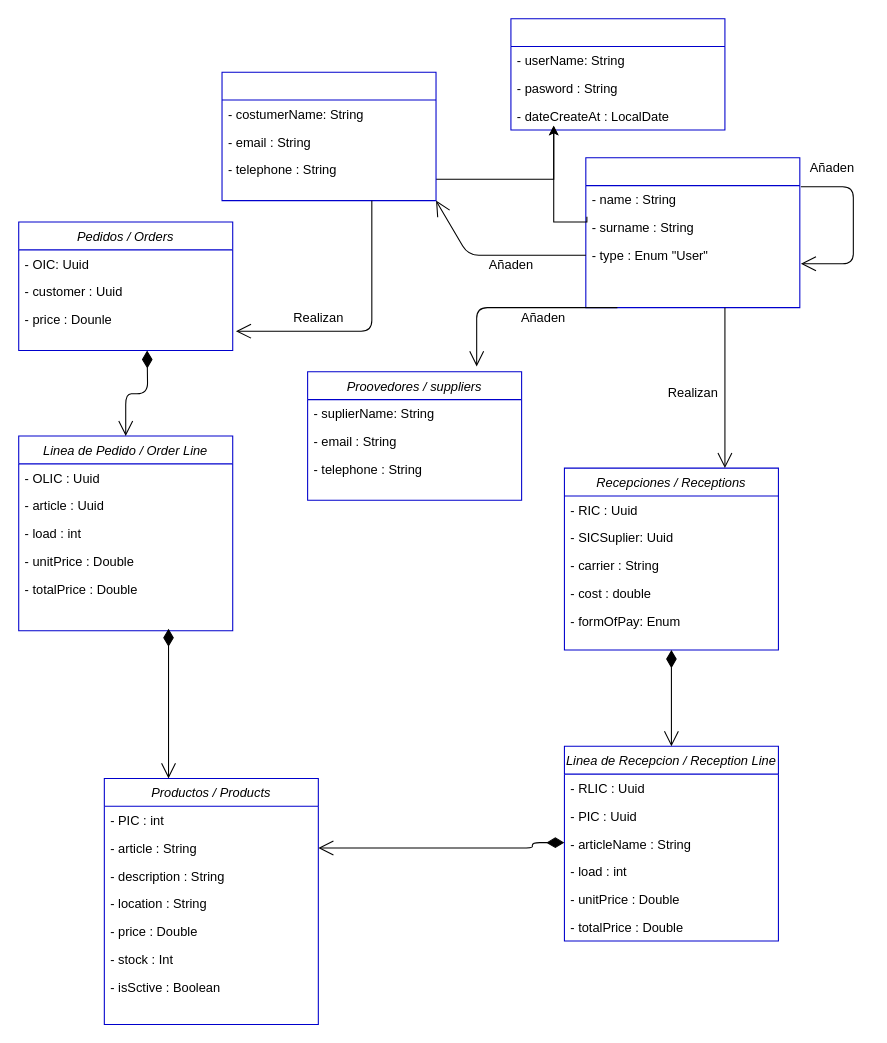
Some shapes in this 887 by 1043 pixel diagram are drawn without their labels. Here are the shapes that lost their labels. From the top down, the box of each, then its label:
(510, 18, 725, 130): Usuarios / Users
(221, 71, 436, 201): Clientes / Store
(585, 157, 800, 308): Empleados
